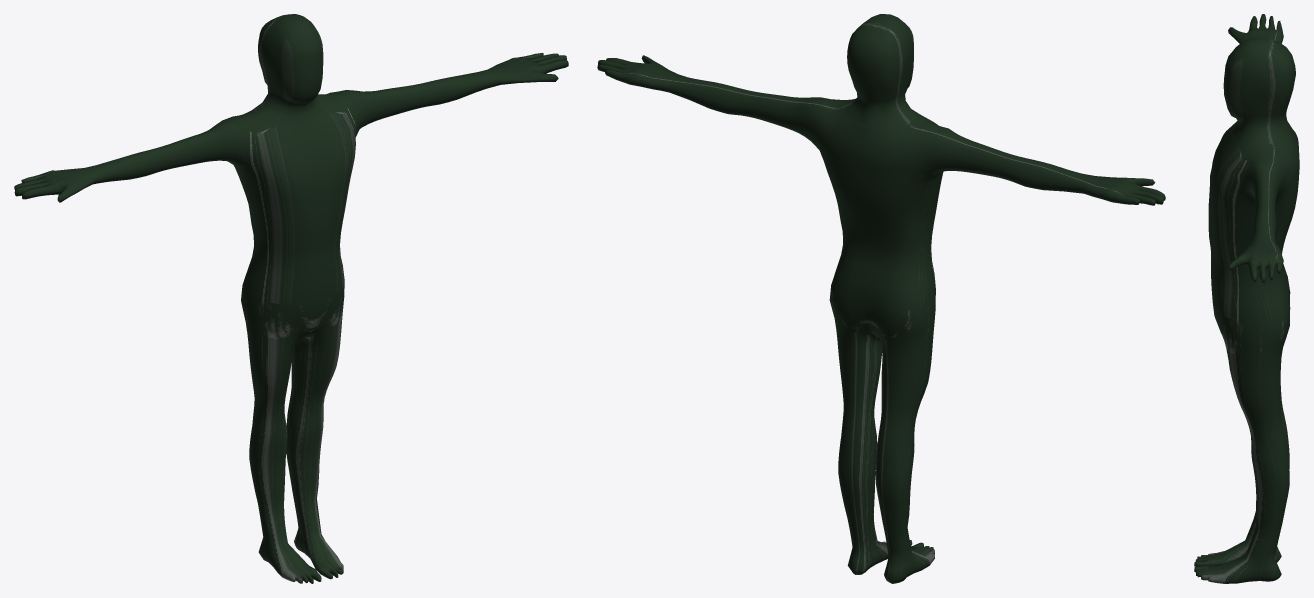
Rendered from ReferenceBOI.fbx.
3 renders of one model, left to right at view 1: azimuth 30°, elevation 25°; view 2: azimuth 150°, elevation 25°; view 3: azimuth 270°, elevation 25°, orthographic. The views are drawn at different scales.
Visible parts, largest first — view 1: Featherless Biped_Baked; view 2: Featherless Biped_Baked; view 3: Featherless Biped_Baked.
Part boxes in pixels (x1,y1,x2,y2): Featherless Biped_Baked: [14, 14, 568, 583]; Featherless Biped_Baked: [597, 14, 1165, 583]; Featherless Biped_Baked: [1194, 14, 1299, 583].
Size of the model in its own units: 191 by 179 by 32.3.
Materials: 1 (1 with a texture image).
